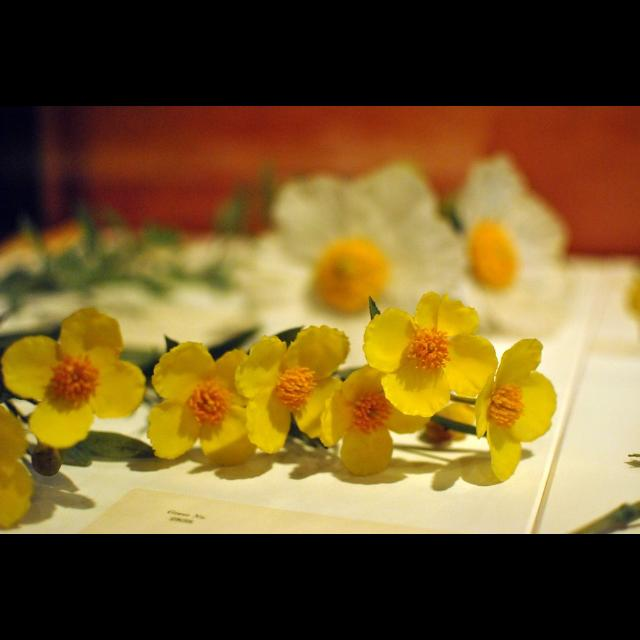Flower: (355, 282, 519, 454), (0, 304, 144, 442), (234, 326, 346, 452), (143, 339, 250, 466), (474, 339, 558, 488)
